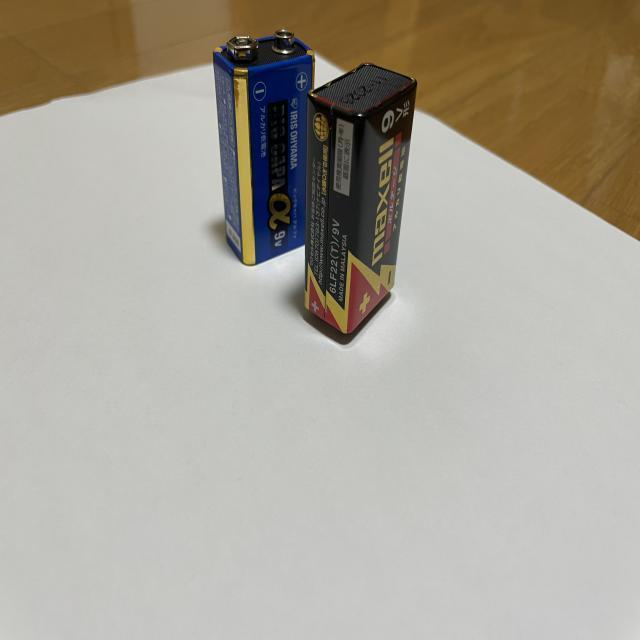9V: (303, 64, 417, 335), (213, 28, 316, 266)
